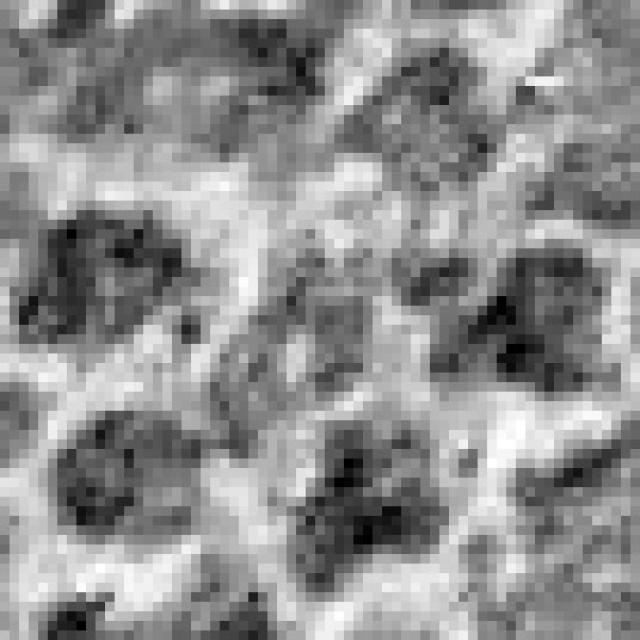inner: (211, 251, 378, 456)
lobe: (72, 13, 330, 153), (281, 417, 453, 599), (404, 252, 613, 398), (12, 207, 194, 361), (340, 42, 509, 199), (44, 414, 206, 551)
outer: (0, 0, 640, 629)
